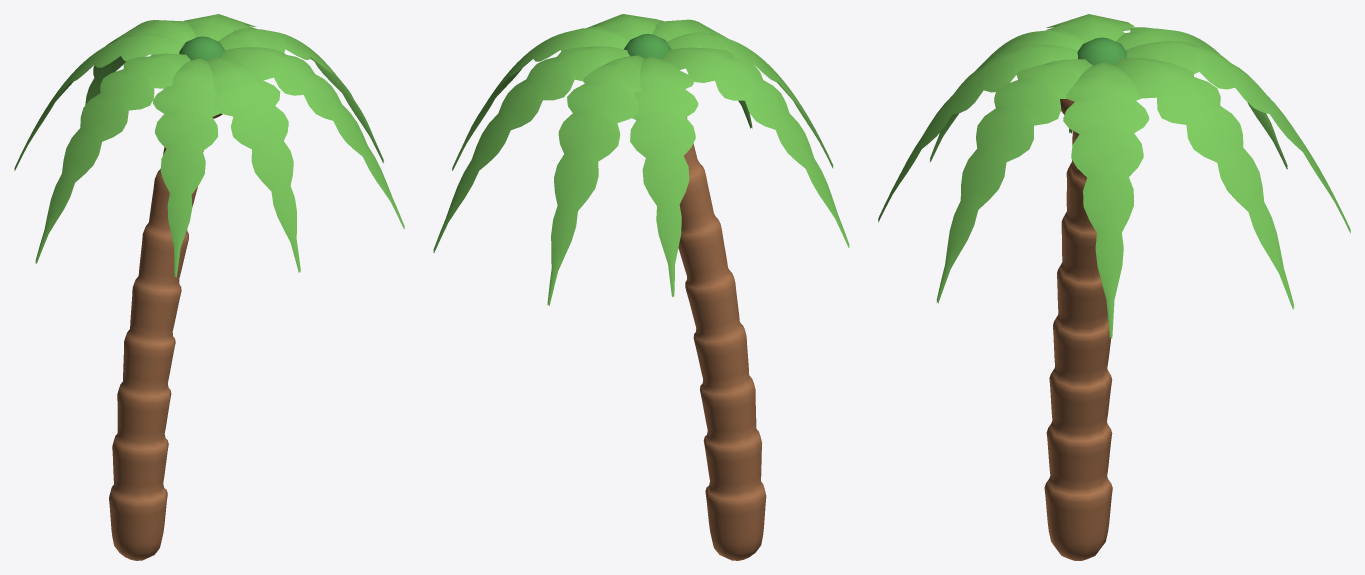
File: prop_palm.glb
3 views of the same model, side by side, from view 1: azimuth 30°, elevation 25°; view 2: azimuth 150°, elevation 25°; view 3: azimuth 270°, elevation 25° (orthographic). The views are drawn at different scales.
Visible parts, largest first — view 1: prop_palm; view 2: prop_palm; view 3: prop_palm.
Boxes of the visible parts, x1=… form: prop_palm: x1=14, y1=14, x2=404, y2=560; prop_palm: x1=433, y1=14, x2=849, y2=560; prop_palm: x1=878, y1=14, x2=1350, y2=560.
Size of the model in its own units: 2.31 by 2.98 by 2.28.
